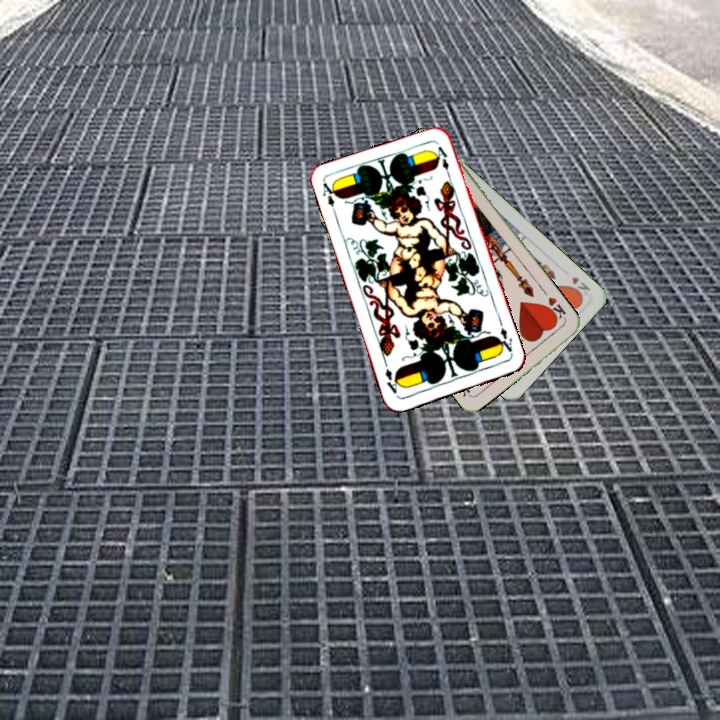EA: (318, 178, 340, 218), (493, 323, 516, 358)
HK: (540, 293, 569, 325), (565, 272, 593, 300)
